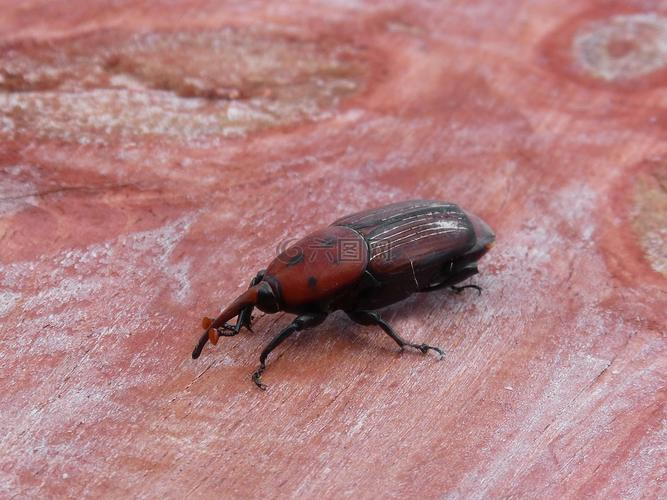Curculionidae: (191, 198, 496, 392)
